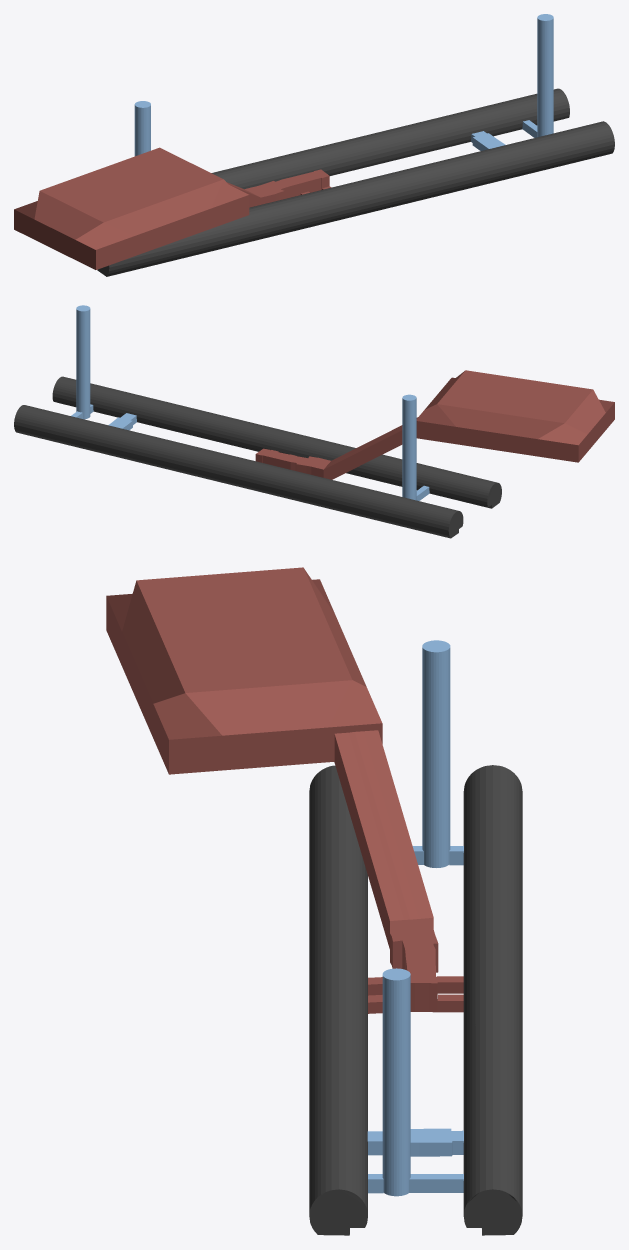
The picture shows the model from 3 angles, top to bottom: view 1: azimuth 30°, elevation 25°; view 2: azimuth 150°, elevation 25°; view 3: azimuth 270°, elevation 25°; orthographic projection. The views are drawn at different scales.
Visible parts, largest first — view 1: TicketHall, PLT1, PLT2, 12, Concourse, 22, 36; view 2: PLT2, TicketHall, PLT1, 12, 22, ESC, Concourse; view 3: TicketHall, PLT2, PLT1, ESC, 12, 22, Concourse, 36.
Boxes of the visible parts, x1,y1,x2,y2 form: TicketHall: (14,147,249,269); PLT1: (97,121,614,276); PLT2: (211,88,569,189); 12: (522,14,553,137); Concourse: (244,169,329,204); 22: (134,101,150,156); 36: (470,131,505,150); PLT2: (14,405,463,538); TicketHall: (416,370,614,462); PLT1: (52,376,501,508); 12: (71,305,93,419); 22: (402,394,429,500); ESC: (323,417,417,479); Concourse: (255,448,330,477); TicketHall: (106,567,382,774); PLT2: (463,765,522,1235); PLT1: (309,765,367,1235); ESC: (334,730,433,948); 12: (368,968,463,1196); 22: (412,640,463,867); Concourse: (390,917,438,1012); 36: (367,1128,463,1156).
Size of the model in its own units: 186 by 38.67 by 65.05.
